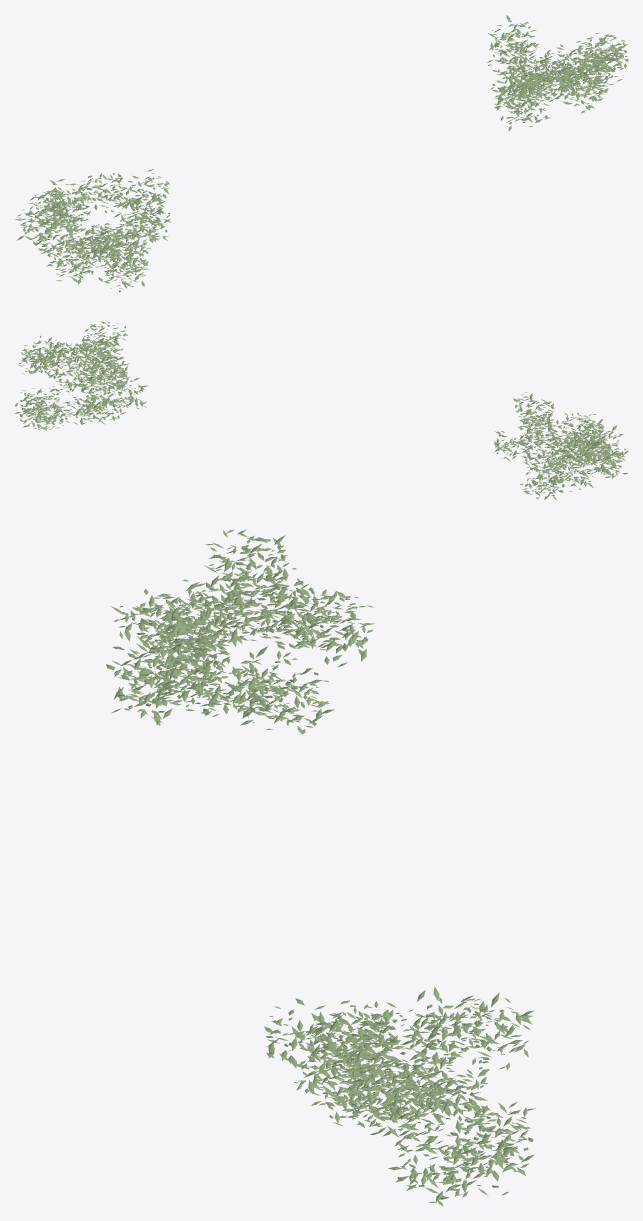
The model's file is xiyuan-vegetation-22-near.glb.
3 views of the same model, one above another, from view 1: azimuth 30°, elevation 25°; view 2: azimuth 150°, elevation 25°; view 3: azimuth 270°, elevation 25° (orthographic). The views are drawn at different scales.
Visible parts, largest first — view 1: vegetation broadleaf leaves.004; view 2: vegetation broadleaf leaves.004; view 3: vegetation broadleaf leaves.004.
Part boxes in pixels (x1,y1,x2,y2): vegetation broadleaf leaves.004: (15,15,628,292); vegetation broadleaf leaves.004: (14,321,628,499); vegetation broadleaf leaves.004: (106,529,535,1206).
Bounding box in the file's own units: 36.45 × 5.31 × 12.27.
